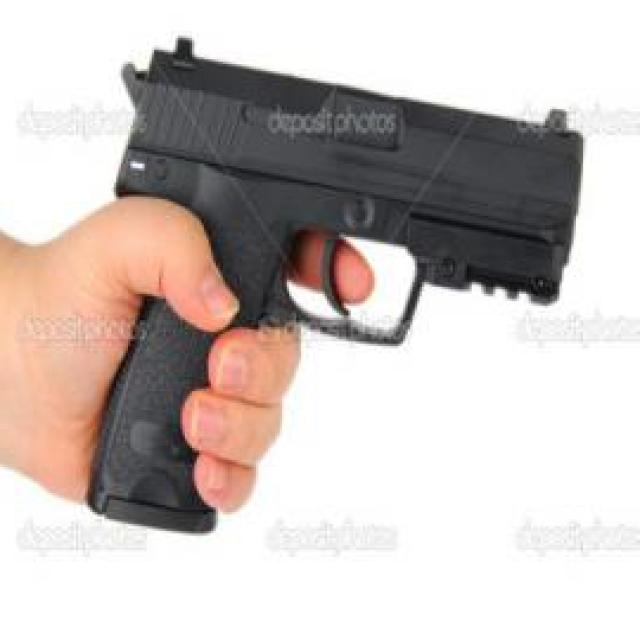pistol: (71, 40, 588, 529)
